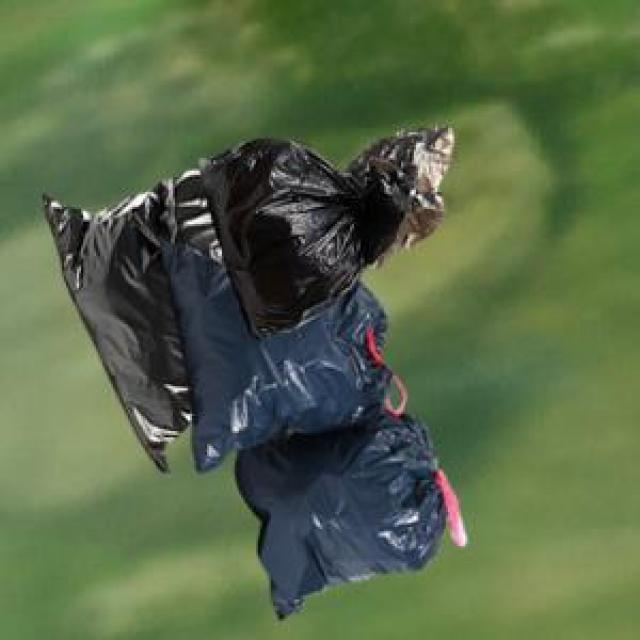waste: (45, 128, 454, 616)
